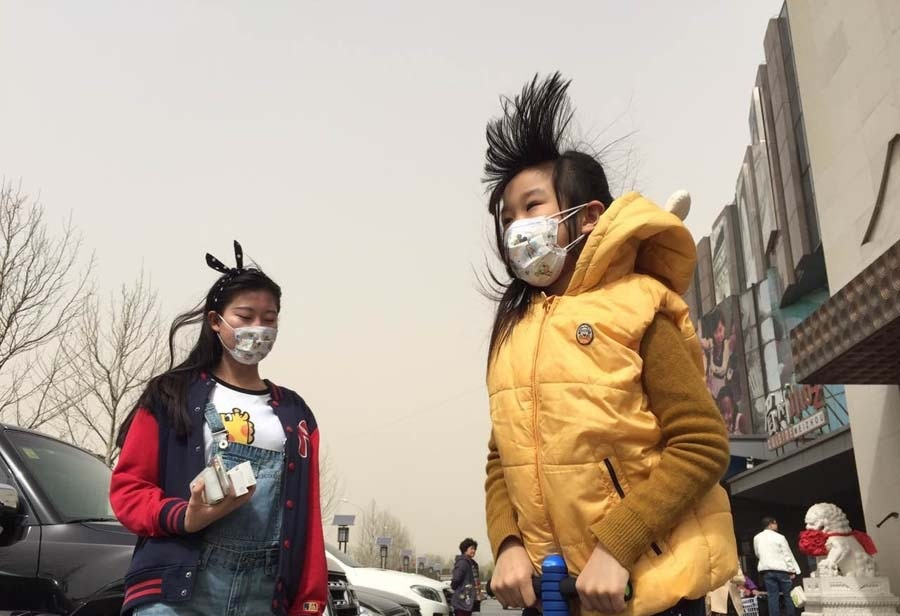face_mask: (499, 172, 568, 288), (222, 289, 282, 365)
